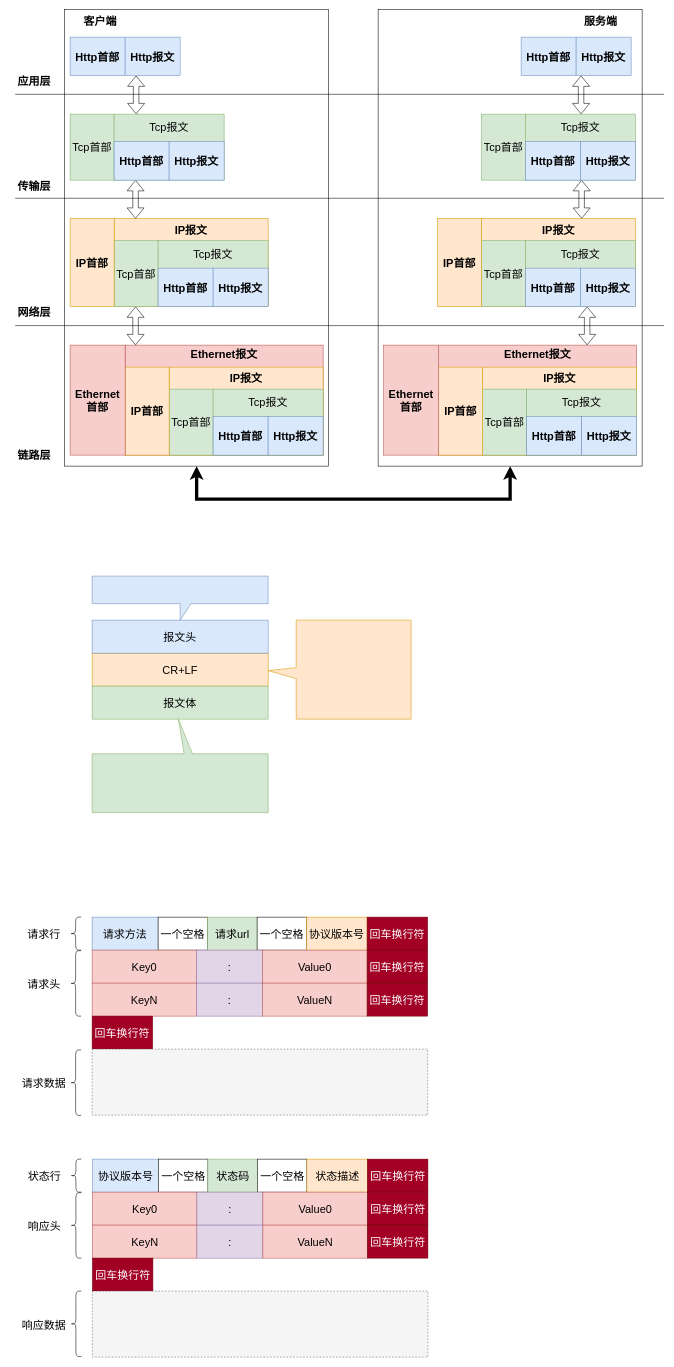
This 674x1367 diagram has some shape labels left out. Here are the shapes that lost their labels. From the top down, the centre of each, then its label:
At pixel 180 598: "和协议相关的信息 需要请求和响应者关注的属性".
At pixel 339 669: "第一个出现的空行 （十六进制表示的CarriageReturen和LineFed）".
At pixel 180 766: "非必须 用户和资源信息".
